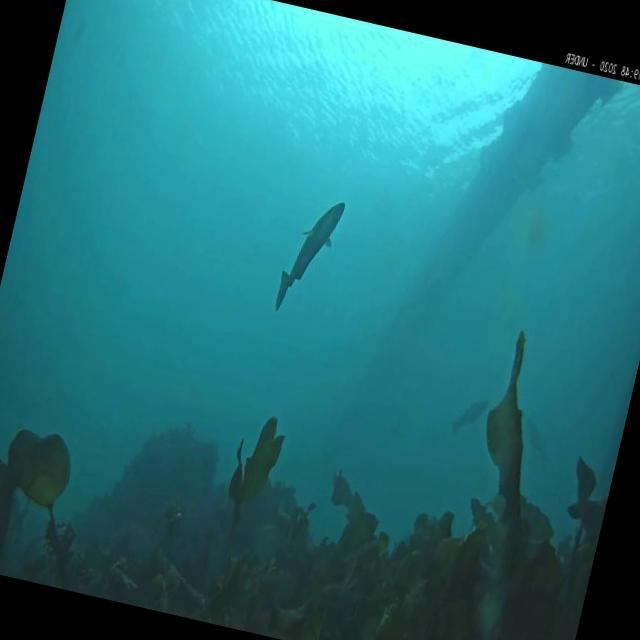fish: (271, 190, 348, 320), (512, 412, 554, 462), (450, 390, 491, 437)
